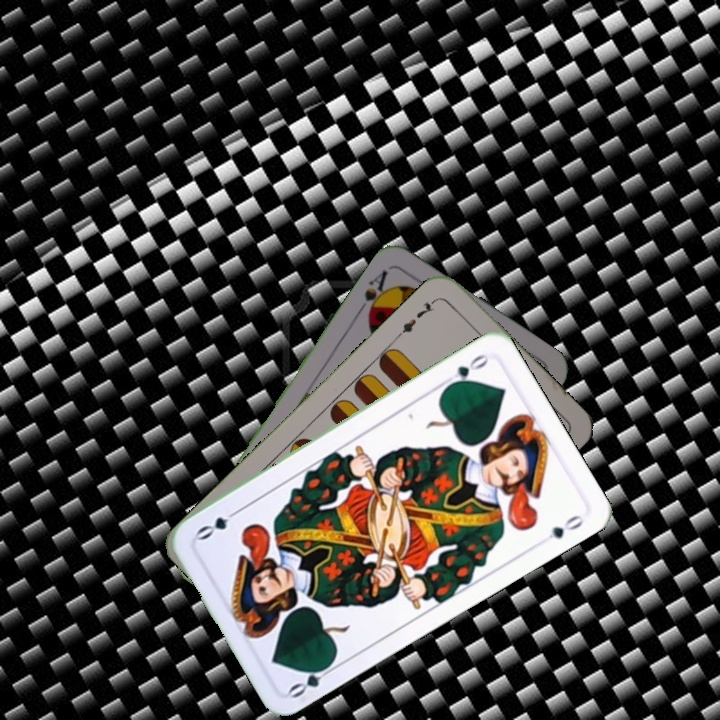E7: (393, 294, 440, 340)
GO: (285, 657, 340, 701), (438, 350, 492, 391)
SA: (354, 265, 394, 322)
